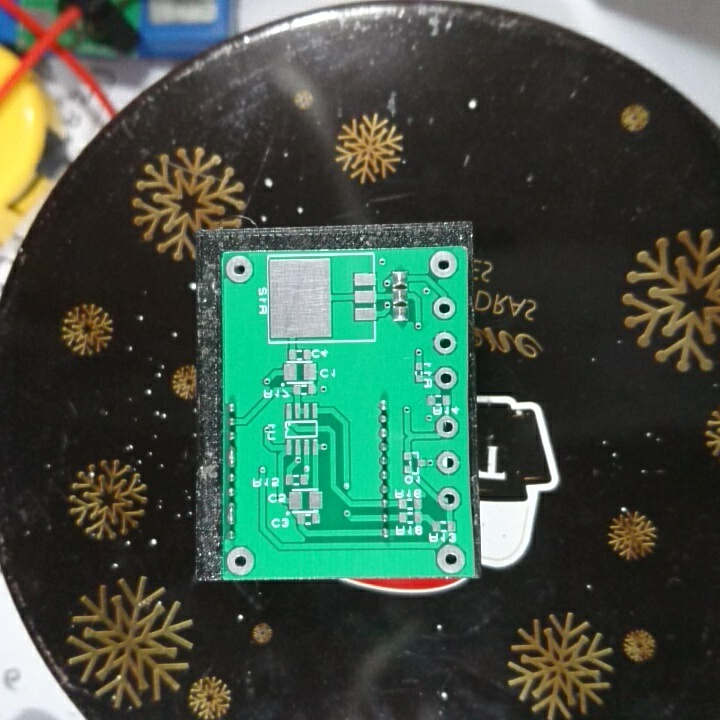F: (434, 539, 471, 574), (225, 542, 259, 578), (426, 249, 461, 281), (225, 254, 256, 285), (431, 362, 461, 392), (434, 446, 463, 477), (434, 484, 465, 512), (431, 294, 459, 322), (434, 413, 462, 441), (432, 328, 458, 357)
P: (225, 500, 242, 526), (225, 443, 240, 468)
